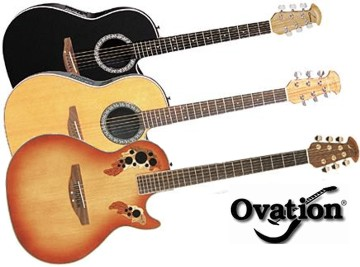guitar: (4, 133, 360, 265), (6, 68, 347, 158), (2, 4, 323, 94)
